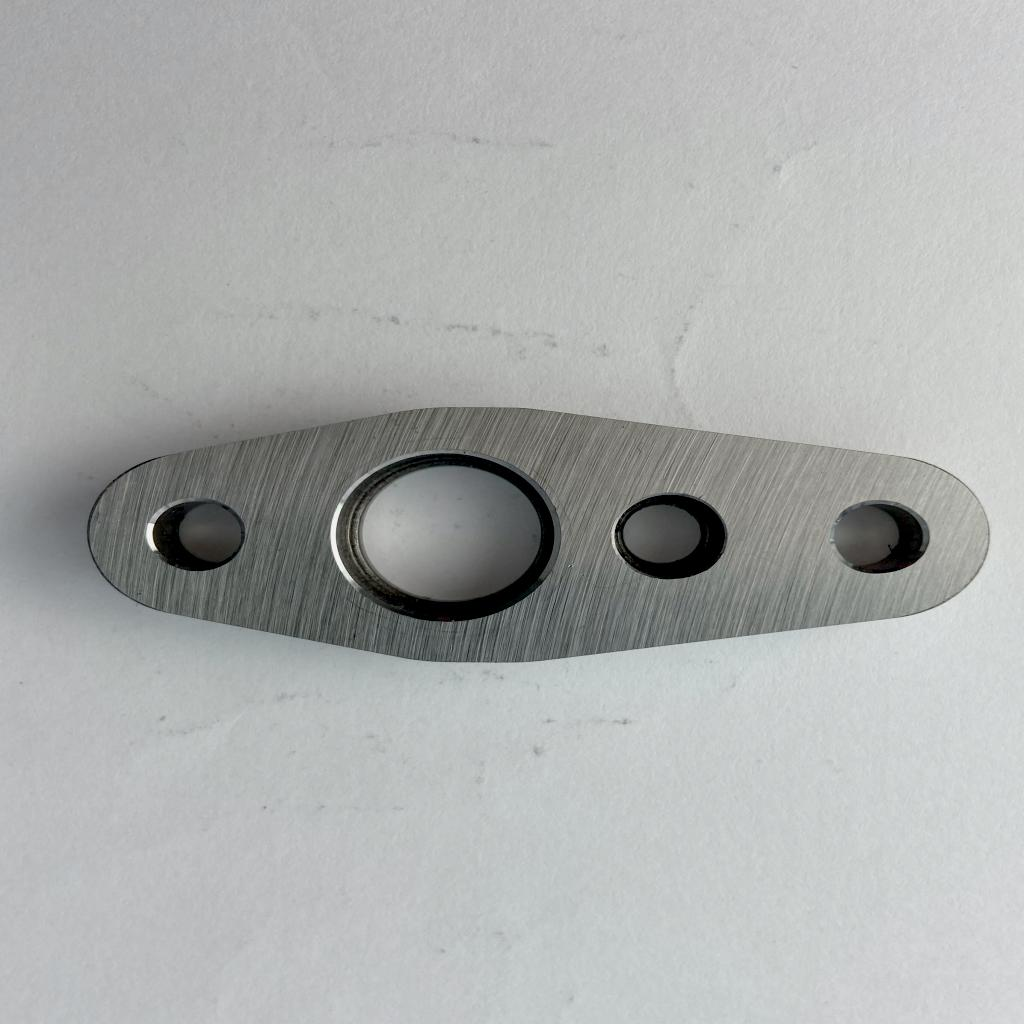chap: (565, 562, 575, 569), (578, 572, 587, 578)
lines: (407, 624, 459, 638), (348, 606, 386, 621)
